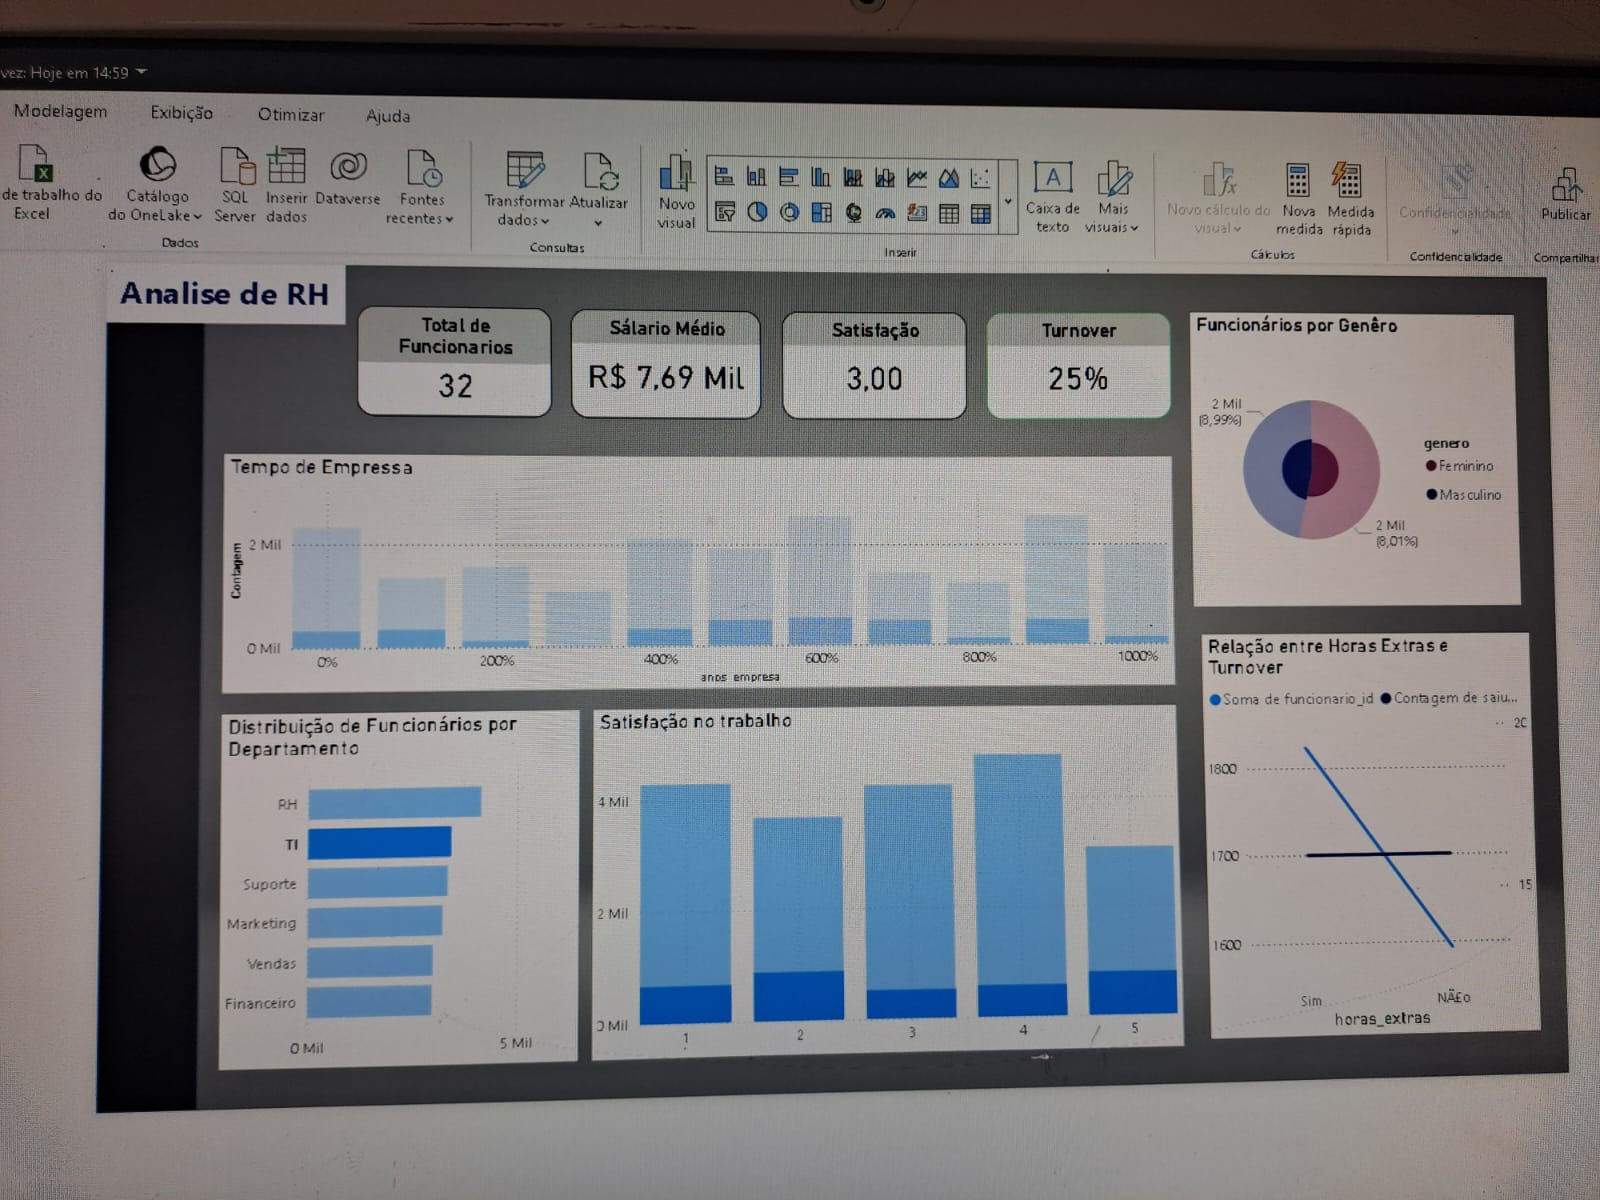

Layout of this report page (visuals, bound fields, positions):
{"tool":"powerbi","page":{"name":"Página 1","canvas":[1280,720],"ordinal":0},"visuals":[{"type":"shape","title":"An","box":[0,0,82.5,720],"z":0},{"type":"card","title":"Total de Funcionarios","fields":{"Values":["funcionarios.Total Funcionarios"]},"box":[210.7,35.1,166,95.7],"z":1000},{"type":"barChart","title":"Distribuição de Funcionários por Departamento","fields":{"Category":["funcionarios.departamento"],"Y":["Sum(funcionarios.funcionario_id)"]},"box":[100.1,388.1,300.3,299.4],"z":2000},{"type":"pieChart","title":"Funcionários por Genêro","fields":{"Category":["funcionarios.genero"],"Y":["Sum(funcionarios.funcionario_id)"]},"box":[947.4,35.1,301.2,265.2],"z":3000},{"type":"columnChart","title":"Tempo de Empressa","fields":{"Category":["funcionarios.anos_empresa"],"Y":["Sum(funcionarios.funcionario_id)"]},"box":[100.1,165.1,828.9,205.5],"z":4000},{"type":"columnChart","title":"Satisfação no trabalho","fields":{"Category":["funcionarios.satisfacao_trabalho"],"Y":["Sum(funcionarios.funcionario_id)"]},"box":[411.8,388.1,517.2,299.4],"z":5000},{"type":"lineChart","title":"Relação entre Horas Extras e Turnover","fields":{"Category":["funcionarios.horas_extras"],"Y":["Sum(funcionarios.funcionario_id)"],"Y2":["CountNonNull(funcionarios.saiu_empresa)"]},"box":[953.6,324.9,301.2,355.6],"z":6000},{"type":"card","title":"Satisfação","fields":{"Values":["funcionarios.Satisfacao Media"]},"box":[578.6,35.1,166,95.7],"z":7000},{"type":"card","title":"Sálario Médio","fields":{"Values":["funcionarios.Salario Medio"]},"box":[393.4,35.1,166.8,95.7],"z":8000},{"type":"card","title":"Turnover","fields":{"Values":["funcionarios.taxa de saida %"]},"box":[762.1,35.1,166.8,95.7],"z":9000},{"type":"textbox","box":[0,0,201.1,51.8],"z":9001}]}

Visuals, with their boxes on the page's 1280x720 design canvas (x1, y1, x2, y2). These are canvas units, not pixel positions in the 1600x1200 screenshot, which may show the page scaled, cropped or inside an application window:
"An" shape: <region>0, 0, 82, 720</region>
"Total de Funcionarios" card: <region>211, 35, 377, 131</region>
"Distribuição de Funcionários por Departamento" barChart: <region>100, 388, 400, 688</region>
"Funcionários por Genêro" pieChart: <region>947, 35, 1249, 300</region>
"Tempo de Empressa" columnChart: <region>100, 165, 929, 371</region>
"Satisfação no trabalho" columnChart: <region>412, 388, 929, 688</region>
"Relação entre Horas Extras e Turnover" lineChart: <region>954, 325, 1255, 680</region>
"Satisfação" card: <region>579, 35, 745, 131</region>
"Sálario Médio" card: <region>393, 35, 560, 131</region>
"Turnover" card: <region>762, 35, 929, 131</region>
textbox: <region>0, 0, 201, 52</region>
